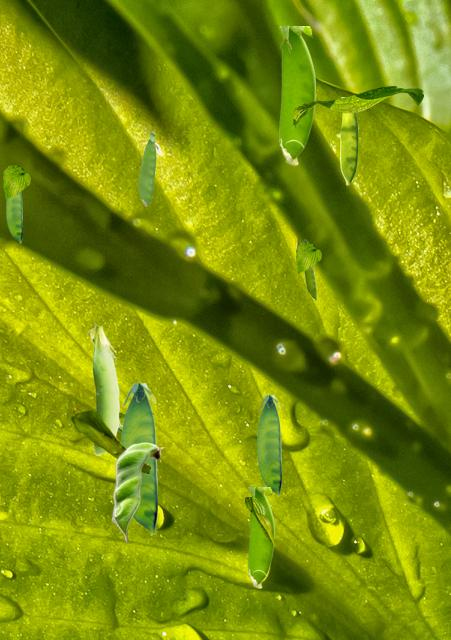pea: (120, 383, 156, 534), (111, 442, 163, 542), (279, 26, 314, 164), (87, 322, 118, 454), (248, 487, 273, 587), (257, 395, 280, 495), (340, 97, 357, 184), (138, 131, 155, 205), (303, 239, 316, 301), (6, 192, 21, 242), (118, 421, 121, 432)
